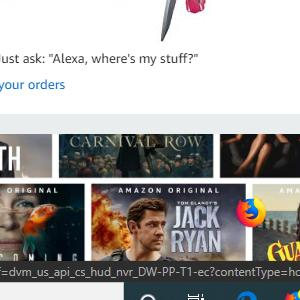firefox: (236, 196, 266, 227)
